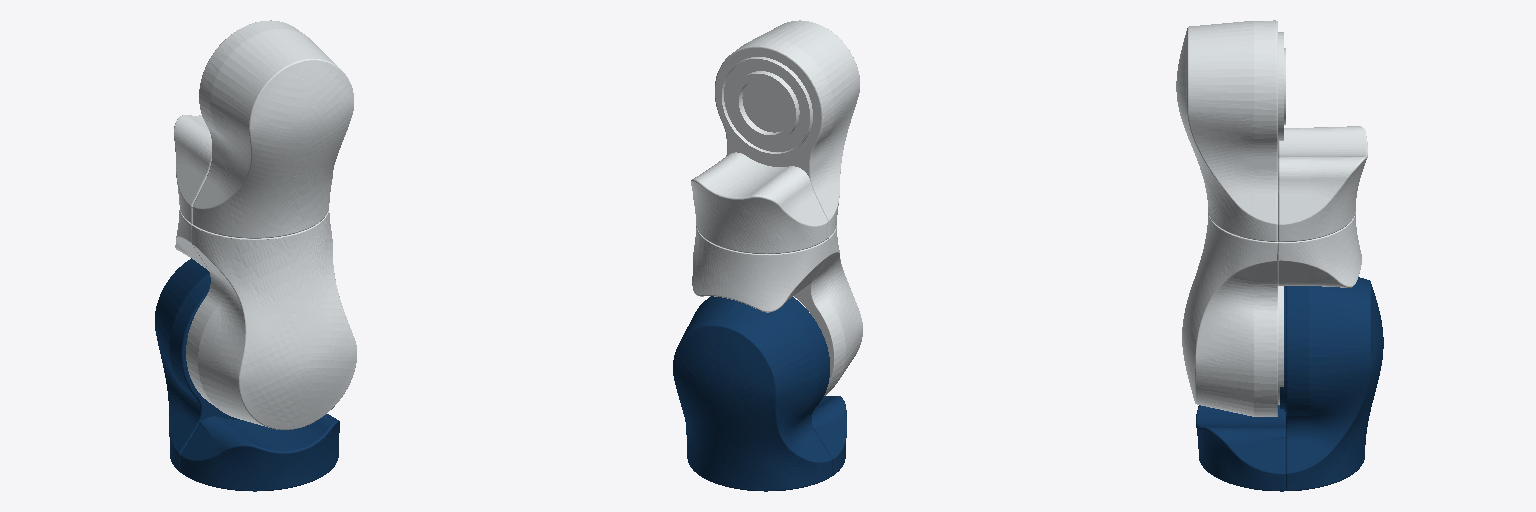
URDF robot description (p_rob):
<?xml version="1.0" ?>
<robot
  name="p_rob">
  <link
    name="arm_base_link">
    <inertial>
      <origin
        xyz="8.71294630254049E-05 0.508451295685675 -0.00113740271757783"
        rpy="0 0 0" />
      <mass
        value="31.8818528911811" />
      <inertia
        ixx="4.65436888537887"
        ixy="-0.0338576061896482"
        ixz="3.29763186167614E-06"
        iyy="0.165544422845209"
        iyz="-0.00333281637307909"
        izz="4.60911765357231" />
    </inertial>
    <visual>
      <origin
        xyz="0 0 0"
        rpy="0 0 0" />
      <geometry>
        <mesh
          filename="package://p_rob_description/meshes/base_link.STL" />
      </geometry>
      <material
        name="">
        <color
          rgba="0.898039215686275 0.917647058823529 0.929411764705882 1" />
      </material>
    </visual>
    <collision>
      <origin
        xyz="0 0 0"
        rpy="0 0 0" />
      <geometry>
        <mesh
          filename="package://p_rob_description/meshes/base_link.STL" />
      </geometry>
    </collision>
  </link>
    <link
    name="link12">
    <inertial>
      <origin
        xyz="8.71294630254049E-05 0.277951295685675 -0.00113740271757783"
        rpy="0 0 0" />
      <mass
        value="3.18818528911811" />
      <inertia
        ixx="4.65436888537887"
        ixy="-0.0338576061896482"
        ixz="3.29763186167614E-06"
        iyy="0.165544422845209"
        iyz="-0.00333281637307909"
        izz="4.60911765357231" />
    </inertial>
    <visual>
      <origin
        xyz="0 0 0"
        rpy="1.5707963267949 0 0" />
      <geometry>
        <mesh
          filename="package://p_rob_description/meshes/link12.STL" />
      </geometry>
      <material
        name="">
        <color
          rgba="0.12549019607843137 0.2784313725490196 0.43529411764705883 1" />
      </material>
    </visual>
    <collision>
      <origin
        xyz="0 0 0"
        rpy="1.5707963267949 0 0" />
      <geometry>
        <mesh
          filename="package://p_rob_description/meshes/link12.STL" />
      </geometry>
    </collision>
  </link>
  <joint
    name="joint1"
    type="revolute">
    <origin
      xyz="0 0 0.223"
      rpy="0 0 0" />
    <parent
      link="arm_base_link" />
    <child
      link="link12" />
    <limit
      effort="1000.0" 
      lower="-2.9775317039023261" upper="2.9775317039023261" 
      velocity="0.87266462599716477"/>
    <axis
      xyz="0 0 1" />
  </joint>
    <link
    name="link23">
    <inertial>
      <origin
        xyz="8.71294630254052E-05 0.000951295697065868 -0.00113740271757783"
        rpy="0 0 0" />
      <mass
        value="3.18818528911811" />
      <inertia
        ixx="4.65436888537887"
        ixy="-0.0338576061896481"
        ixz="3.29763186167612E-06"
        iyy="0.165544422845209"
        iyz="-0.00333281637307909"
        izz="4.60911765357231" />
    </inertial>
    <visual>
      <origin
        xyz="0 0 0.145"
        rpy="1.5707963267949 0 0" />
      <geometry>
        <mesh
          filename="package://p_rob_description/meshes/link23.STL" />
      </geometry>
      <material
        name="">
        <color
          rgba="0.898039215686275 0.917647058823529 0.929411764705882 1" />
      </material>
    </visual>
    <collision>
      <origin
        xyz="0 0 0.145"
        rpy="1.5707963267949 0 0" />
      <geometry>
        <mesh
          filename="package://p_rob_description/meshes/link23.STL" />
      </geometry>
    </collision>
  </link>
  <joint
    name="joint2"
    type="revolute">
    <origin
      xyz="0 0 0.1395"
      rpy="0 0 0" />
    <parent
      link="link12" />
    <child
      link="link23" />
    <limit
      effort="1000.0" 
      lower="-1.9233528356977512" upper="1.9233528356977512" 
      velocity="0.87266462599716477"/>
    <axis
      xyz="0 1 0" />
  </joint>
</robot>

--- Facts derived from the render (not from the file) ---
Views: 3 orthographic renders of the robot side by side, from view 1: azimuth 30°, elevation 25°; view 2: azimuth 150°, elevation 25°; view 3: azimuth 270°, elevation 25°.
Model p_rob with 3 links and 2 joints (2 revolute), rooted at arm_base_link, posed all joints at 0.
Links seen in each view (by area): view 1: link23, link12; view 2: link23, link12; view 3: link23, link12.
Link boxes in pixels (x1=…): link23: x1=174, y1=20, x2=356, y2=429; link12: x1=155, y1=258, x2=339, y2=491; link23: x1=691, y1=20, x2=862, y2=395; link12: x1=673, y1=296, x2=846, y2=491; link23: x1=1176, y1=20, x2=1367, y2=416; link12: x1=1196, y1=277, x2=1383, y2=491.
Size in the robot's own frame: 0.175 by 0.2179 by 0.501 metres.
2 mesh visuals loaded from 3 distinct referenced files (2 binary STL); not drawn: 1 (reference not matched to a file when rendering).